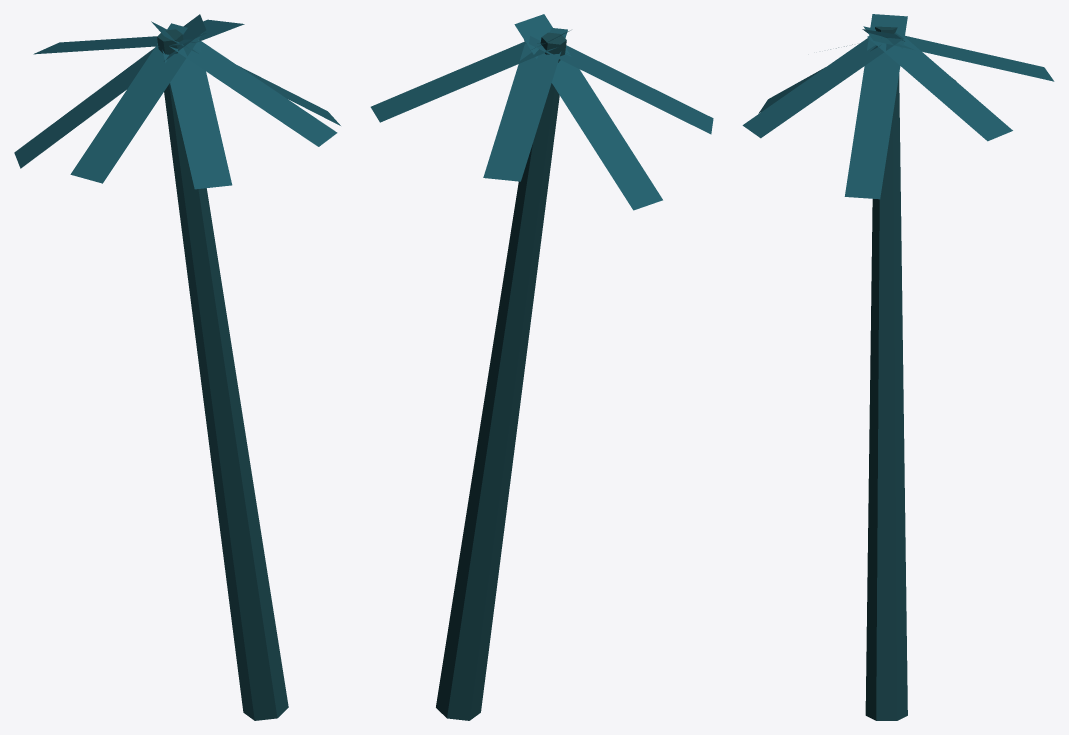
Rendered from swamp_rimPalm.glb.
3 renders of one model, left to right at view 1: azimuth 30°, elevation 25°; view 2: azimuth 150°, elevation 25°; view 3: azimuth 270°, elevation 25°, orthographic. The views are drawn at different scales.
Visible parts, largest first — view 1: n1, n7, n9, n11, n5, n3, n13; view 2: n1, n5, n3, n15, n7; view 3: n1, n13, n15, n11, n3.
Part boxes in pixels (x1,y1,x2,y2): n1: (157, 29, 288, 720); n7: (70, 23, 203, 183); n9: (162, 40, 232, 189); n11: (169, 40, 337, 146); n5: (14, 14, 206, 168); n3: (33, 33, 206, 54); n13: (151, 21, 340, 125); n1: (436, 32, 566, 720); n5: (514, 14, 662, 210); n3: (483, 28, 567, 181); n15: (370, 41, 556, 122); n7: (529, 36, 713, 134); n1: (865, 26, 907, 720); n13: (844, 14, 907, 199); n15: (867, 35, 1012, 141); n11: (742, 32, 903, 138); n3: (863, 26, 1054, 81).
Size of the model in its own units: 7.17 by 17.13 by 7.39.
